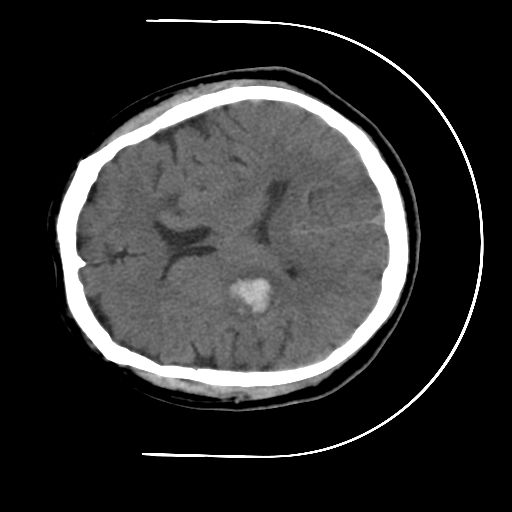a: (208, 255, 299, 331)
